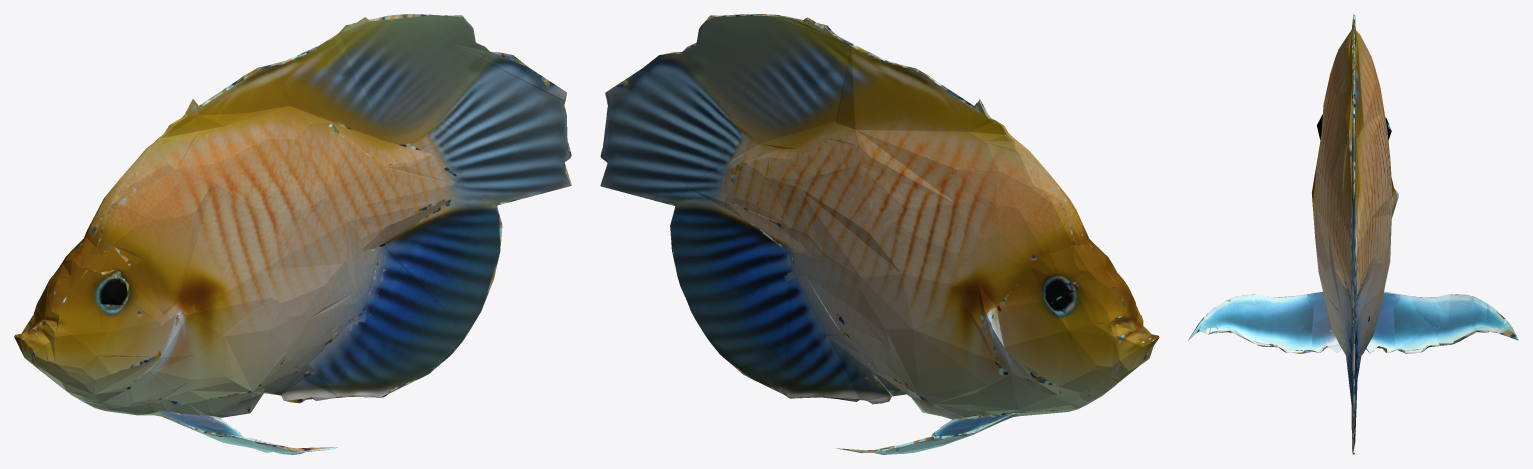
The model's file is fish_0016_smpl23_resized.glb.
3 renders of one model, left to right at view 1: azimuth 30°, elevation 25°; view 2: azimuth 150°, elevation 25°; view 3: azimuth 270°, elevation 25°, orthographic.
Visible parts, largest first — view 1: world; view 2: world; view 3: world.
Part boxes in pixels (x1,y1,x2,y2): world: [14, 14, 571, 454]; world: [600, 14, 1159, 454]; world: [1188, 14, 1518, 454].
Size of the model in its own units: 1.99 by 1.31 by 1.04.
1 material, 1 textured.
